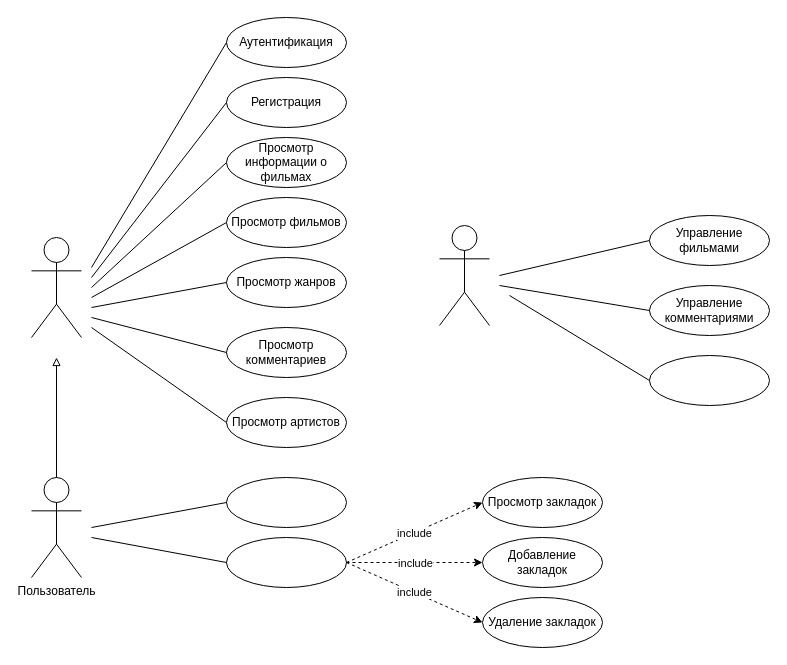
Some shapes in this 787 by 665 pixel diagram are drawn without their labels. Each missing label, with the centre of its shape:
"Администратор" goes at [464,275].
"Гость" goes at [56,287].
"Оставить комментарий" goes at [286,502].
"Управление артистами" goes at [709,380].
"Управление закладками" goes at [286,562].
